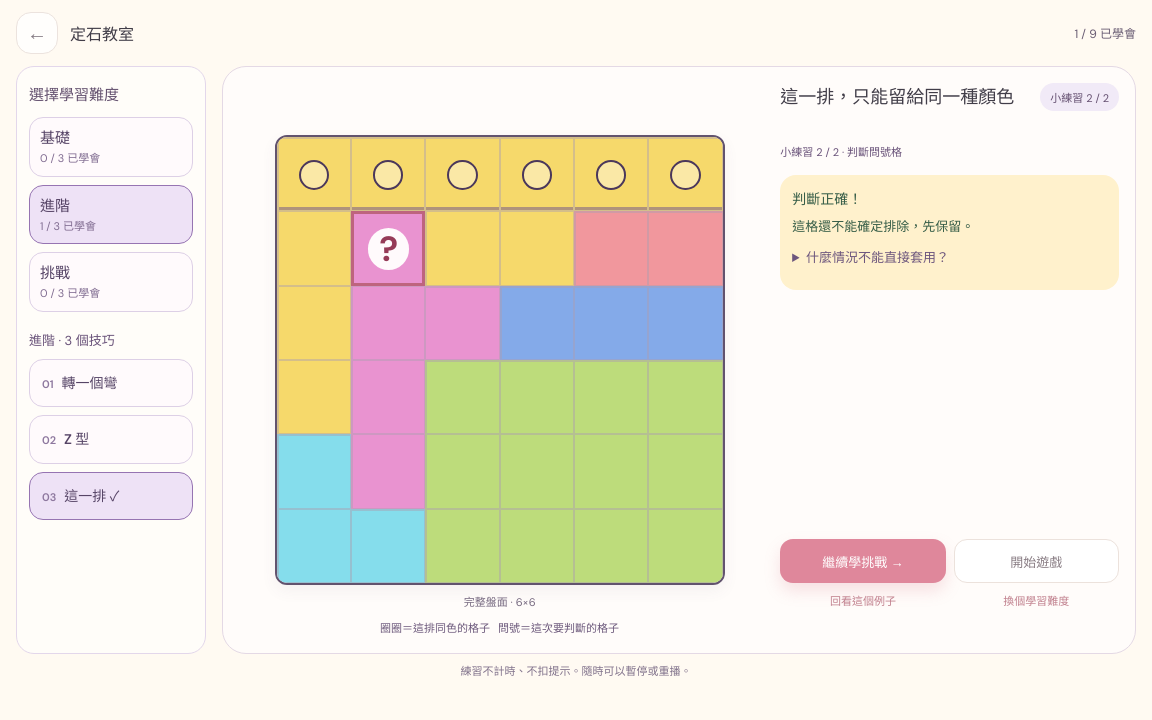
continues from reverse into the next difficulty without leaving the classroom
This screenshot has width=1152, height=720.
Earlier steps of the test are not shown.
Expected: the button with class "academy-play" reads "開始遊戲", [954,539,1119,583]
Click the button with class "continue-practice" at (863, 561), box [780,539,946,583]
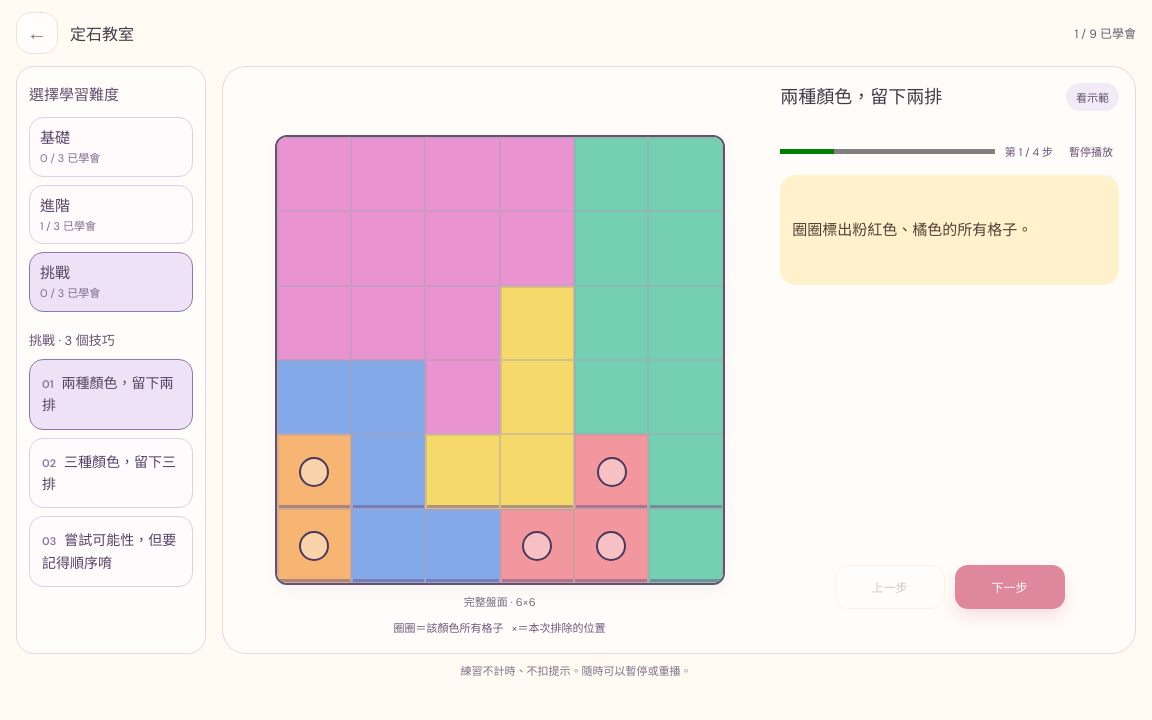
Result: the text "第 1 / 4 步" is shown at [1005,143,1053,159]
Result: the message "判斷正確！ 這格還不能確定排除，先保留。 什麼情況不能直接套用？" is gone
